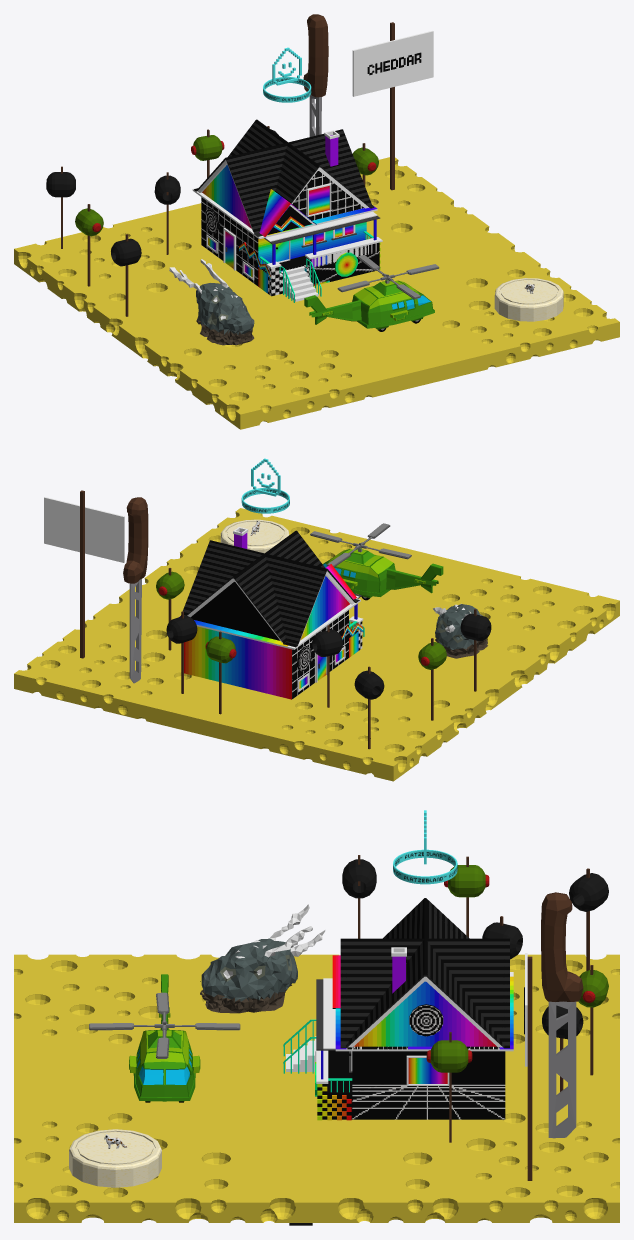
3 views of the same model, one above another, from view 1: azimuth 30°, elevation 25°; view 2: azimuth 150°, elevation 25°; view 3: azimuth 270°, elevation 25° (orthographic). The views are drawn at different scales.
Visible parts, largest first — view 1: Cube.022, Cube.1320, Cube.023, VEHICLES_HELICOPTER, OBJRANDOM_METEORITE, Cylinder.016, Cube.024, TYPE_PREMIUM, Sphere.017, Sphere.018, Sphere.016, Sphere.020 (+2 smaller); view 2: Cube.022, Cube.1320, Cube.023, VEHICLES_HELICOPTER, Cube.024, OBJRANDOM_METEORITE, Cylinder.016, TYPE_PREMIUM, Sphere.021, Sphere.017, Sphere.020, Sphere.022 (+3 smaller); view 3: Cube.022, Cube.1320, OBJRANDOM_METEORITE, Cube.024, VEHICLES_HELICOPTER, Cylinder.016, Cube.023, Sphere.019, Sphere.016, TYPE_PREMIUM, Sphere.017, Sphere.018 (+3 smaller).
Part boxes in pixels (x1=…): Cube.022: x1=14, y1=157, x2=619, y2=429; Cube.1320: x1=192, y1=119, x2=382, y2=302; Cube.023: x1=352, y1=22, x2=433, y2=190; VEHICLES_HELICOPTER: x1=304, y1=255, x2=439, y2=331; OBJRANDOM_METEORITE: x1=169, y1=259, x2=254, y2=345; Cylinder.016: x1=494, y1=278, x2=563, y2=321; Cube.024: x1=303, y1=14, x2=328, y2=136; TYPE_PREMIUM: x1=263, y1=47, x2=311, y2=102; Sphere.017: x1=111, y1=234, x2=141, y2=316; Sphere.018: x1=75, y1=204, x2=103, y2=286; Sphere.016: x1=46, y1=166, x2=75, y2=248; Sphere.020: x1=154, y1=172, x2=180, y2=254; Cube.022: x1=14, y1=508, x2=619, y2=781; Cube.1320: x1=180, y1=527, x2=364, y2=699; Cube.023: x1=44, y1=490, x2=124, y2=658; VEHICLES_HELICOPTER: x1=310, y1=523, x2=443, y2=600; Cube.024: x1=123, y1=497, x2=148, y2=683; OBJRANDOM_METEORITE: x1=433, y1=603, x2=487, y2=658; Cylinder.016: x1=220, y1=519, x2=289, y2=553; TYPE_PREMIUM: x1=241, y1=458, x2=289, y2=513; Sphere.021: x1=166, y1=611, x2=197, y2=693; Sphere.017: x1=460, y1=609, x2=491, y2=691; Sphere.020: x1=312, y1=625, x2=342, y2=707; Sphere.022: x1=205, y1=631, x2=236, y2=714; Cube.022: x1=14, y1=954, x2=619, y2=1222; Cube.1320: x1=283, y1=898, x2=513, y2=1120; OBJRANDOM_METEORITE: x1=200, y1=904, x2=325, y2=1013; Cube.024: x1=541, y1=892, x2=583, y2=1138; VEHICLES_HELICOPTER: x1=89, y1=974, x2=240, y2=1102; Cylinder.016: x1=69, y1=1129, x2=161, y2=1187; Cube.023: x1=524, y1=953, x2=532, y2=1180; Sphere.019: x1=426, y1=1032, x2=472, y2=1142; Sphere.016: x1=569, y1=868, x2=608, y2=970; TYPE_PREMIUM: x1=393, y1=810, x2=457, y2=884; Sphere.017: x1=342, y1=855, x2=376, y2=938; Sphere.018: x1=444, y1=856, x2=489, y2=937.
Bounding box in the file's own units: 3917 × 2232 × 4000.
Materials: 36 (6 with a texture image).
